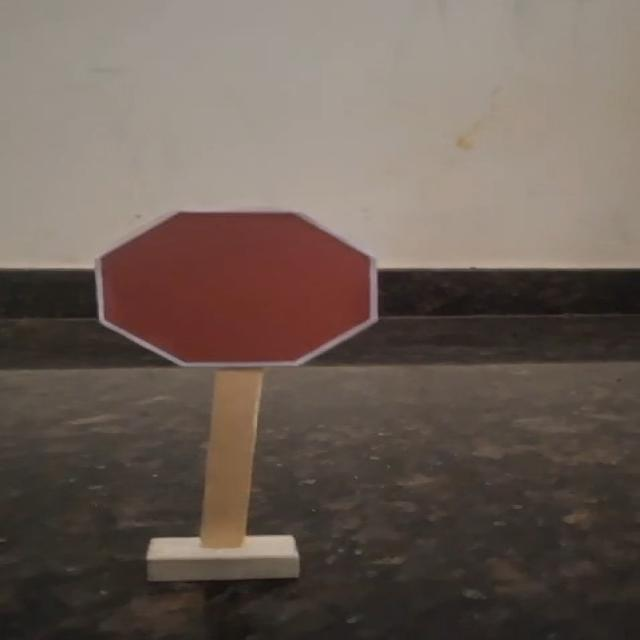Stop: (71, 199, 421, 380)
